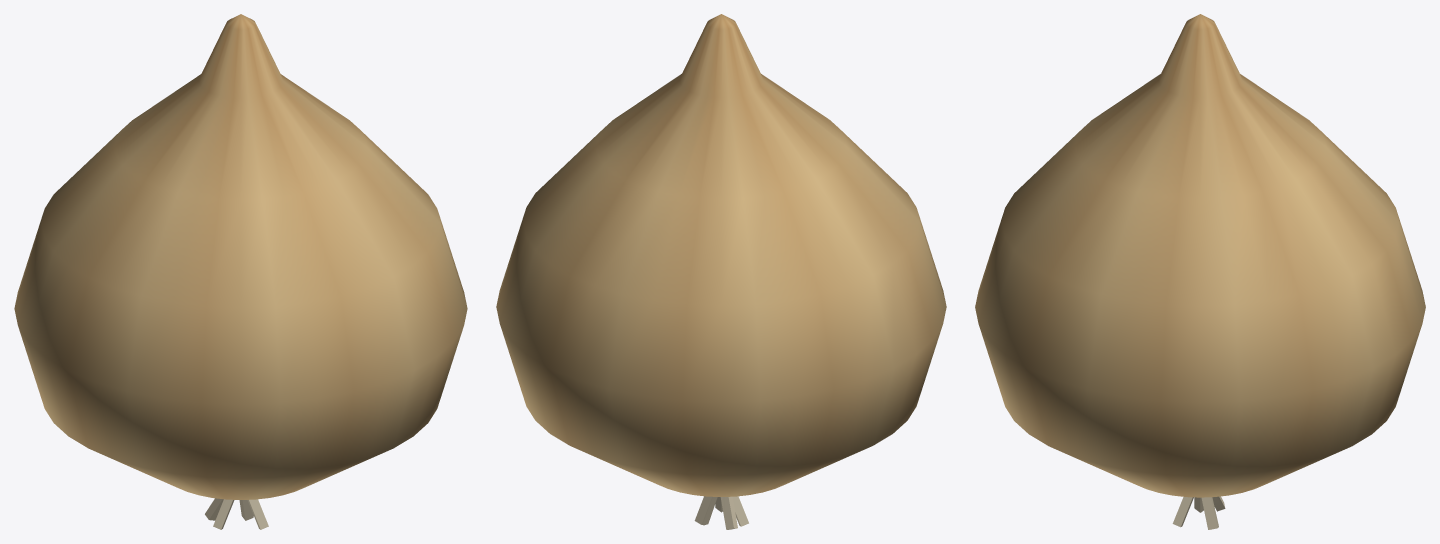
Rendered from kr_onion.glb.
3 views of the same model, side by side, from view 1: azimuth 30°, elevation 25°; view 2: azimuth 150°, elevation 25°; view 3: azimuth 270°, elevation 25° (orthographic).
Parts seen in each view (by area): view 1: vc_m0_r2, vc_m0_r8; view 2: vc_m0_r2, vc_m0_r8; view 3: vc_m0_r2, vc_m0_r8.
Boxes of the visible parts, <box> form: vc_m0_r2: <box>14,14,467,499</box>; vc_m0_r8: <box>205,498,268,529</box>; vc_m0_r2: <box>496,14,946,496</box>; vc_m0_r8: <box>694,496,748,529</box>; vc_m0_r2: <box>975,14,1425,497</box>; vc_m0_r8: <box>1172,496,1225,529</box>.
Size of the model in its own units: 0.216 by 0.2695 by 0.216.
